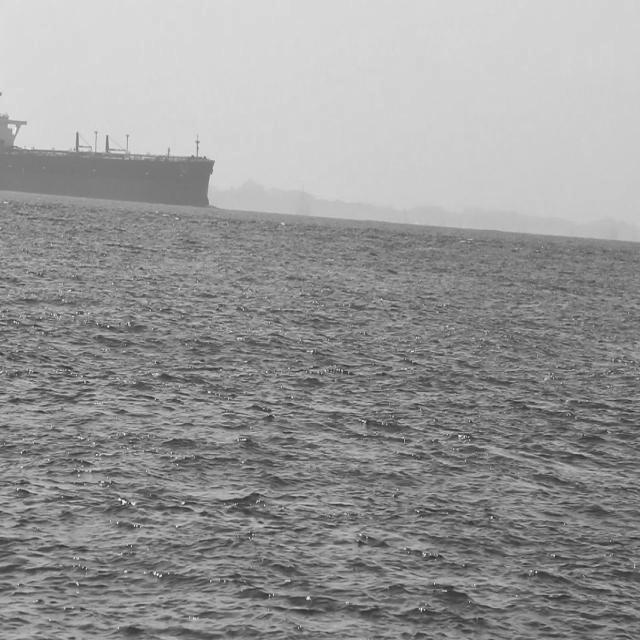ship: (0, 112, 222, 204)
